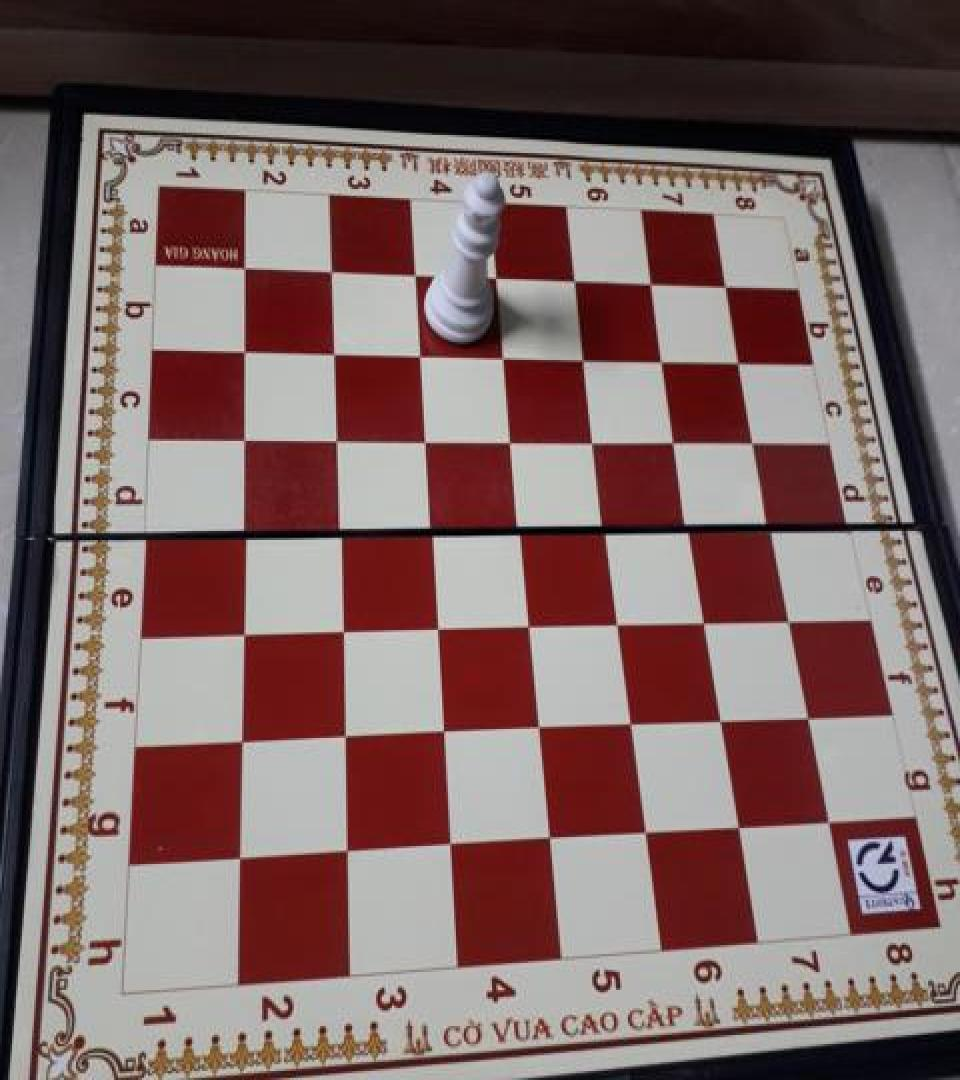xcorner: (479, 255, 513, 294), (568, 335, 602, 374), (739, 418, 773, 457), (660, 418, 694, 457), (523, 705, 557, 744), (709, 264, 743, 302), (635, 261, 669, 299), (558, 259, 592, 297), (398, 253, 432, 291), (315, 250, 349, 288), (229, 246, 263, 284), (723, 339, 757, 377), (647, 338, 681, 376), (487, 334, 521, 372), (403, 332, 437, 370), (317, 330, 351, 368), (228, 328, 262, 366), (579, 418, 613, 456), (495, 418, 529, 456), (409, 416, 443, 454), (320, 416, 354, 454), (227, 415, 261, 453), (755, 504, 789, 542), (674, 505, 708, 543), (590, 506, 624, 544), (504, 506, 538, 544), (322, 508, 356, 546), (227, 510, 261, 548), (773, 595, 807, 633), (689, 598, 723, 636), (602, 600, 636, 638), (513, 602, 547, 640), (421, 606, 455, 644), (325, 608, 359, 646), (226, 610, 260, 648), (791, 693, 825, 731), (705, 698, 739, 736), (616, 701, 650, 739), (427, 710, 461, 748), (328, 714, 362, 752), (225, 719, 259, 757), (812, 798, 846, 836), (722, 804, 756, 842), (630, 810, 664, 848), (534, 817, 568, 855), (434, 824, 468, 862), (331, 830, 365, 868), (224, 837, 258, 875), (414, 508, 448, 545)
